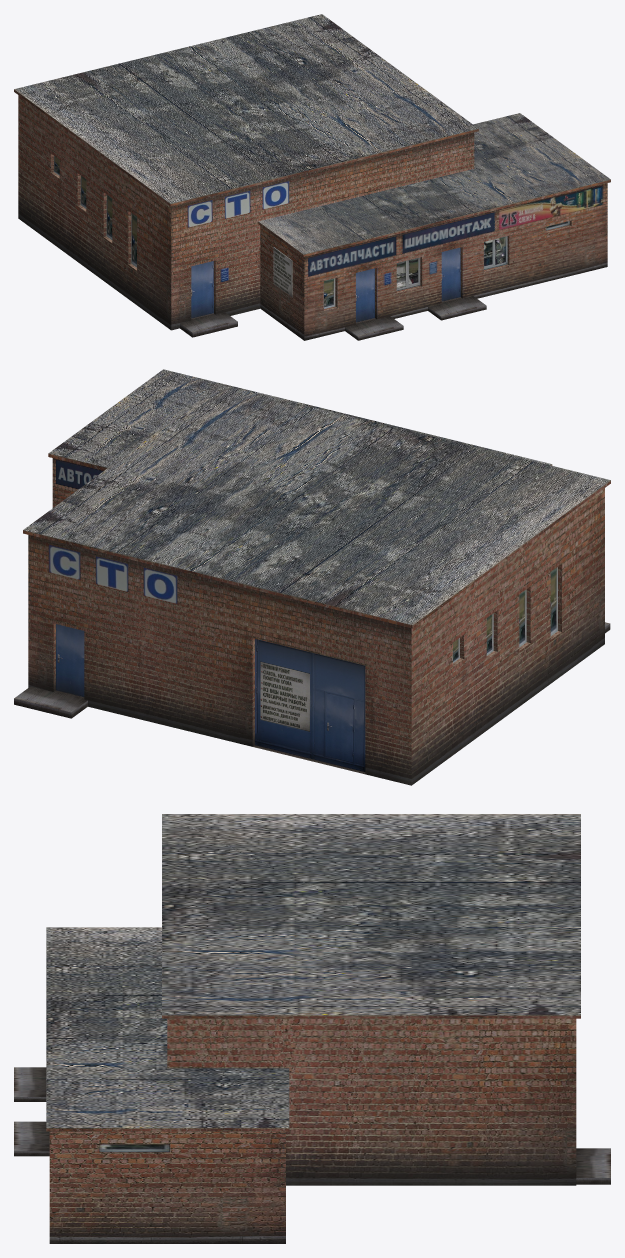
File: r254_maryanovka_sto.FBX
3 views of the same model, one above another, from view 1: azimuth 30°, elevation 25°; view 2: azimuth 150°, elevation 25°; view 3: azimuth 270°, elevation 25° (orthographic). The views are drawn at different scales.
Visible parts, largest first — view 1: r254_maryanovka_sto; view 2: r254_maryanovka_sto; view 3: r254_maryanovka_sto.
Boxes of the visible parts, <box> form: r254_maryanovka_sto: <box>14,14,610,340</box>; r254_maryanovka_sto: <box>14,369,610,785</box>; r254_maryanovka_sto: <box>14,814,610,1243</box>.
Bounding box in the file's own units: 16.49 × 16.05 × 5.11.
